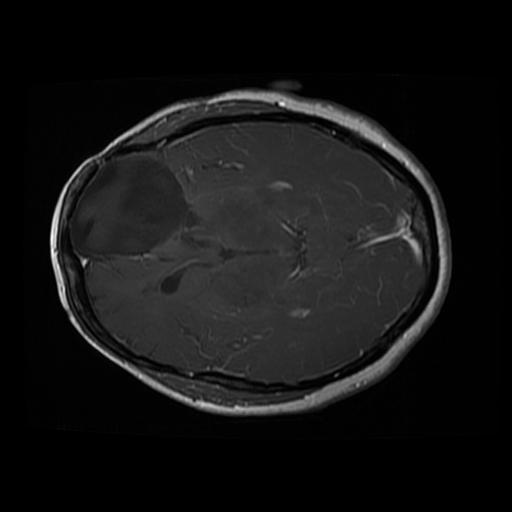glioma: (67, 153, 211, 265)
